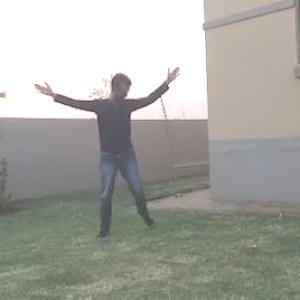takeoff: (26, 48, 182, 232)
